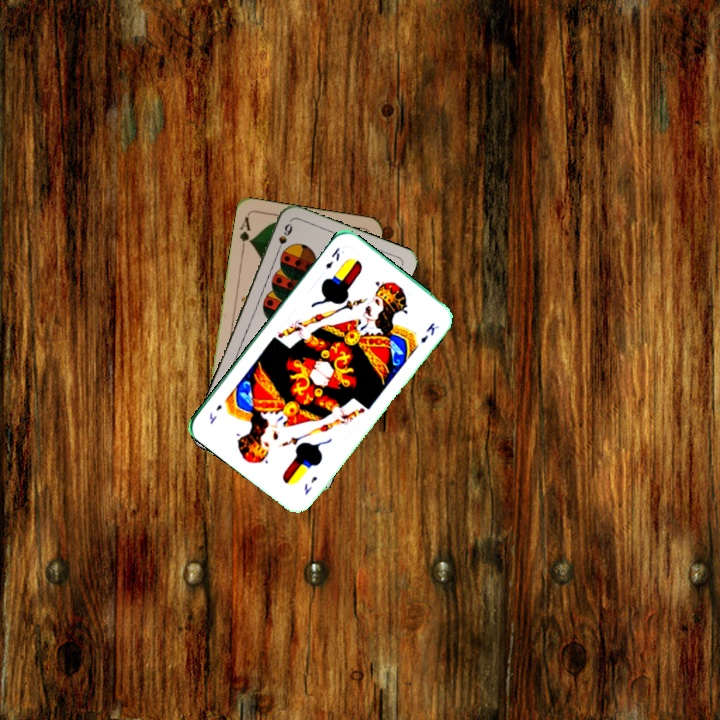EK: (321, 244, 342, 272), (300, 472, 320, 497)
GA: (235, 212, 254, 252)
S9: (272, 219, 295, 257)
